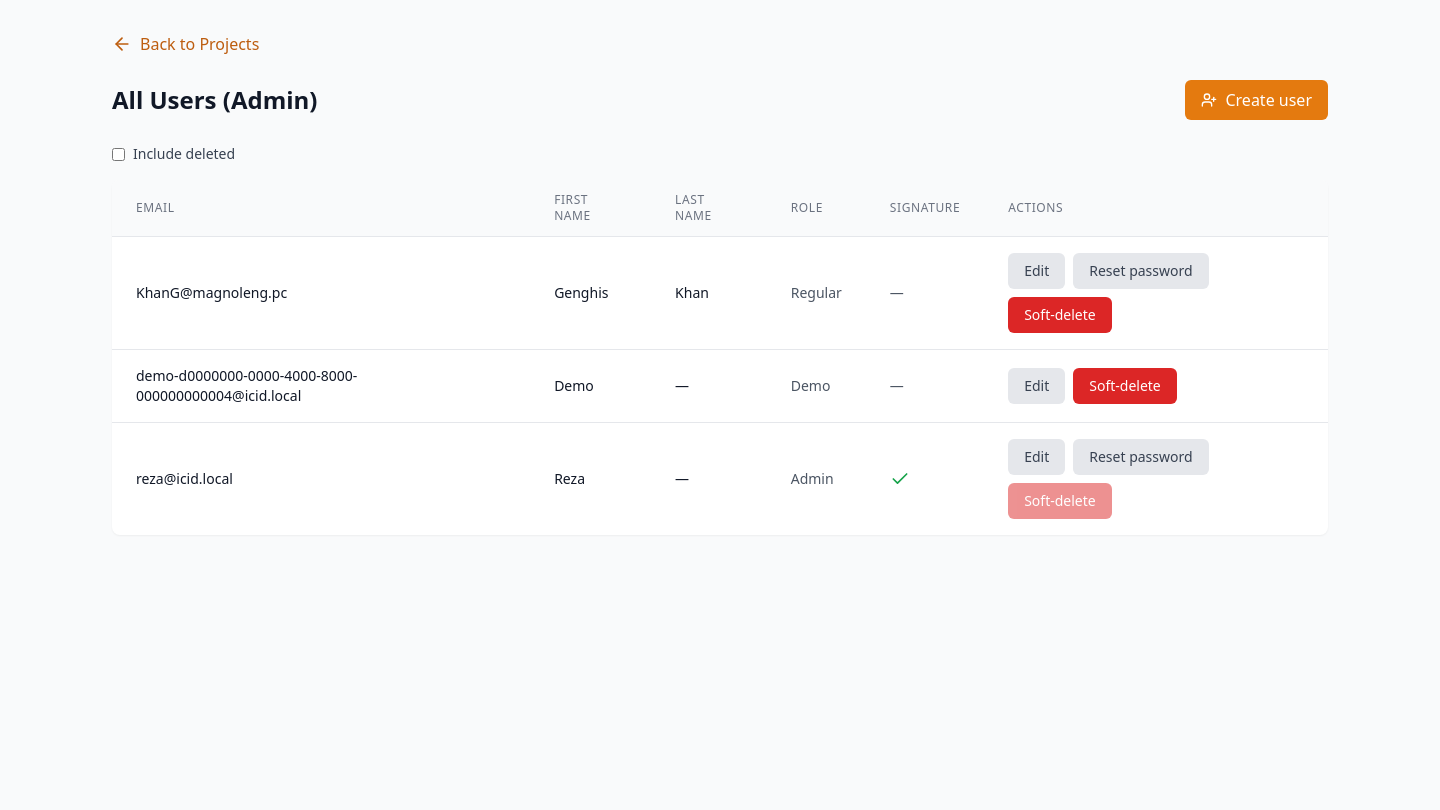
Test case: AdminUsersPage — editing a user › promotes a demo user to a real one
Click the 2nd button "Edit" at [1037, 386], box [1008,368,1065,404]
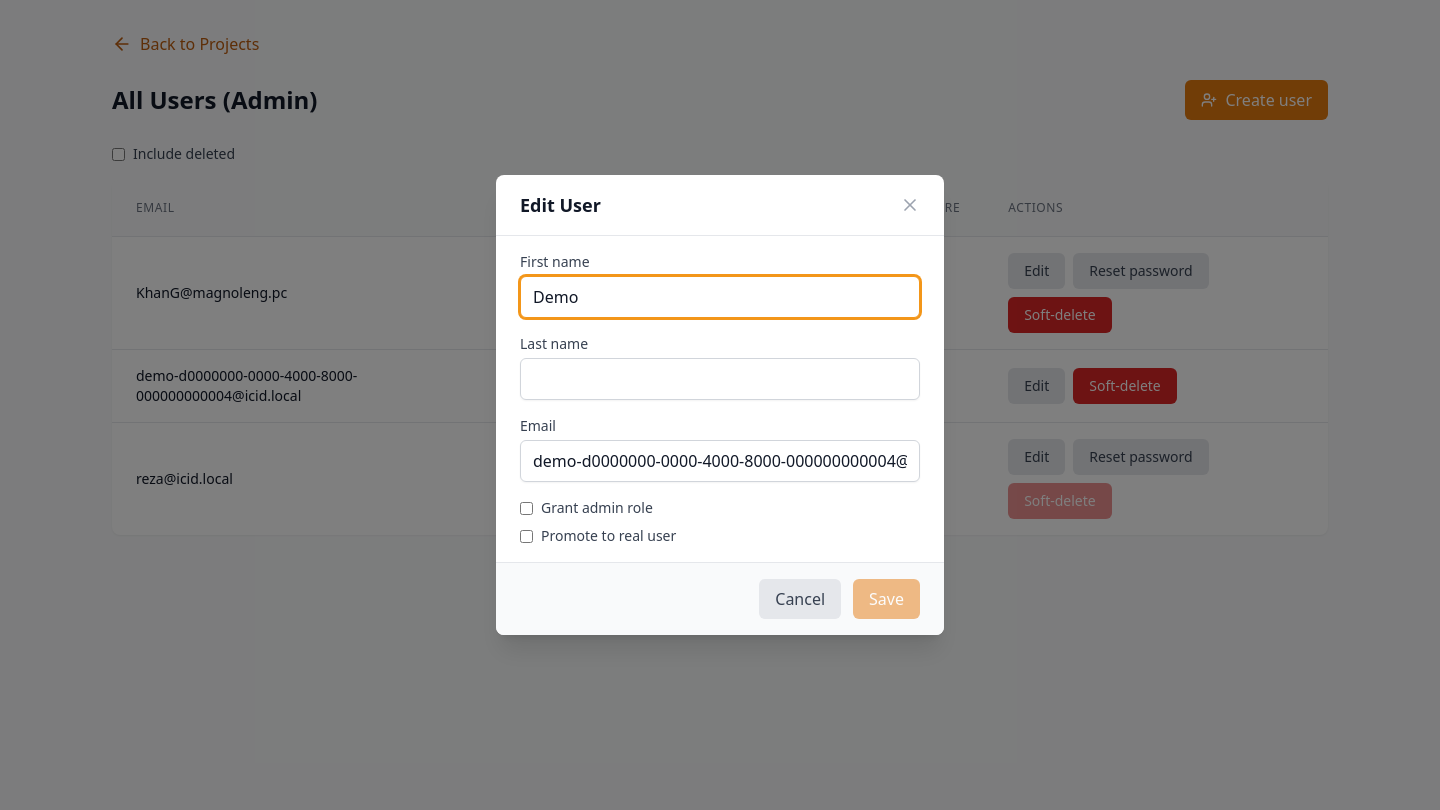
Click the checkbox labelled "Promote to real user" at [526, 536], box [520,530,533,542]
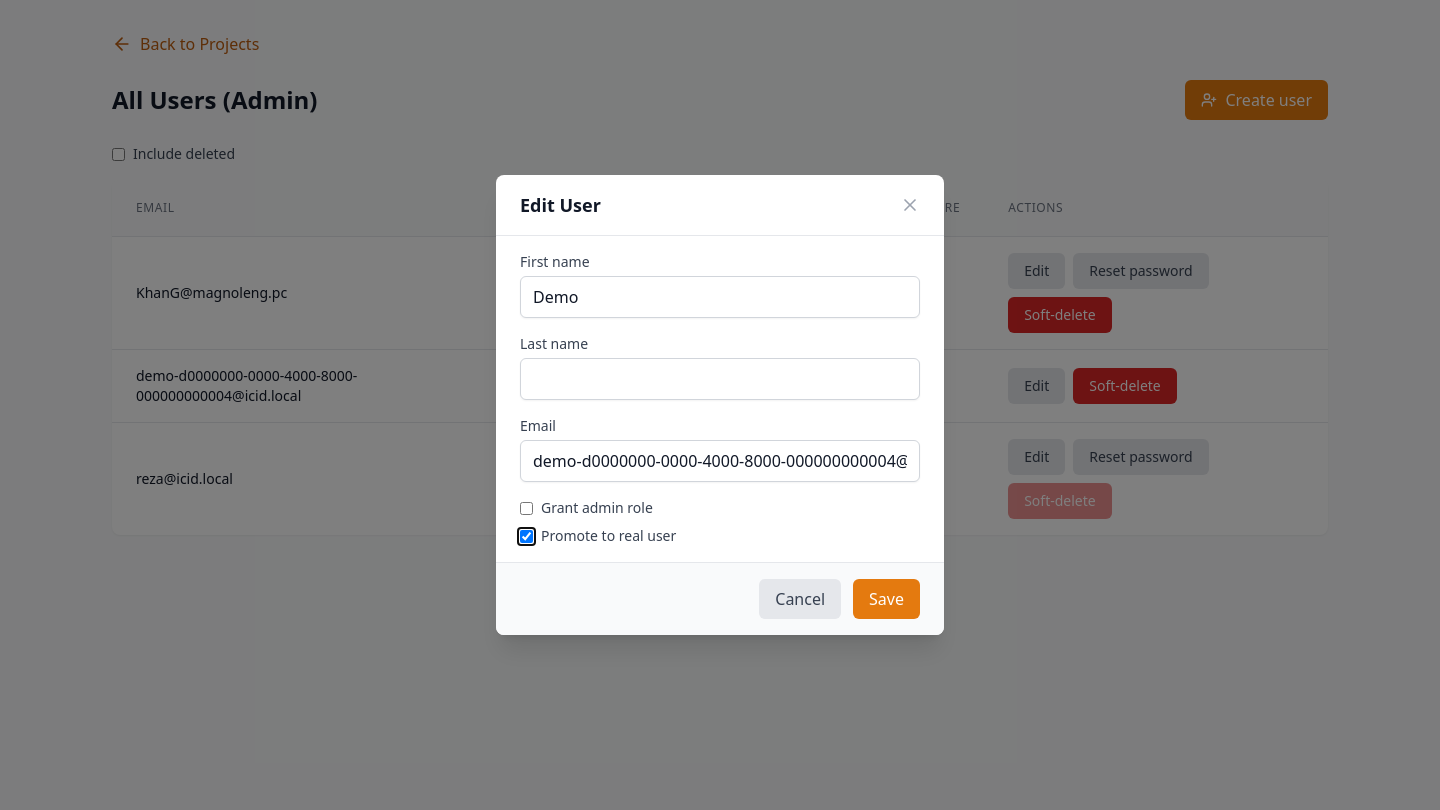
Click the button "Save" at [887, 599], box [853,579,920,619]
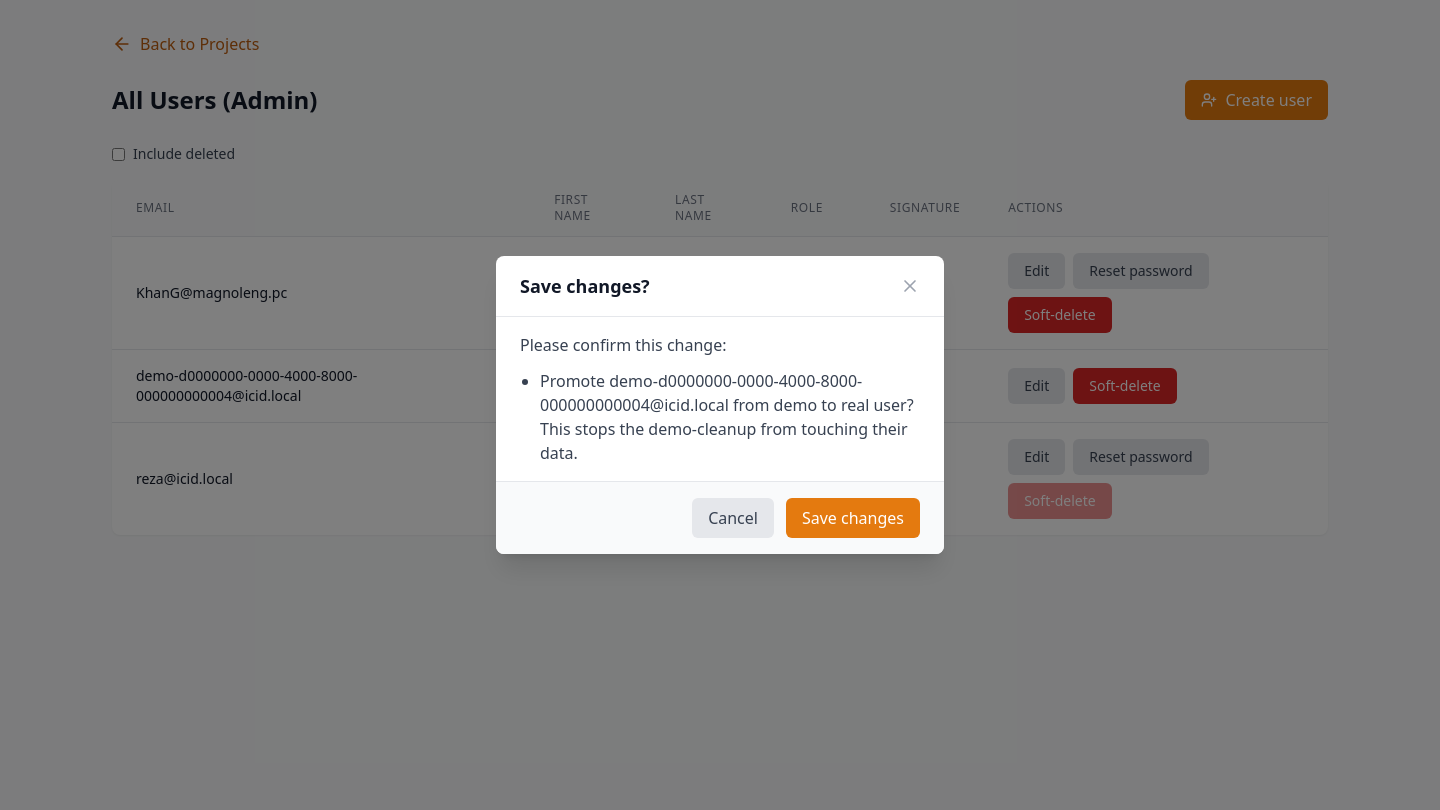
Click the button "Save changes" at [853, 518], box [786,498,920,538]
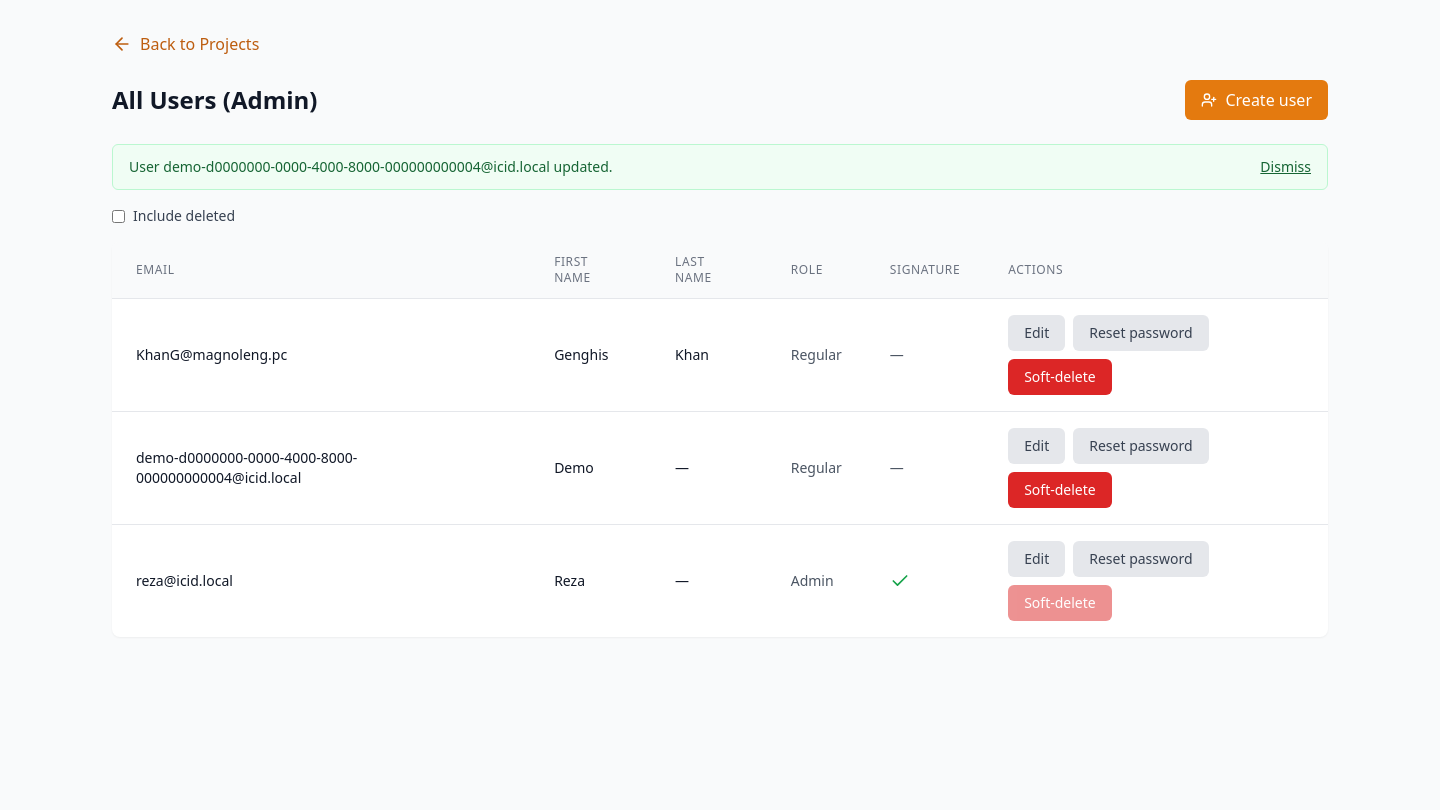
Expected: the cell "Regular" in the row of "KhanG@magnoleng.pc" is shown, [791,345,842,364]
Expected: the 2nd button "Reset password" is shown, [1073,428,1209,464]
